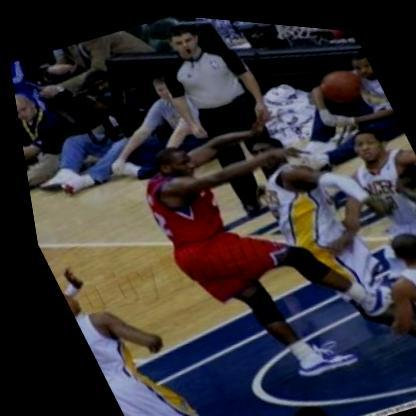basketball: (304, 52, 374, 111)
